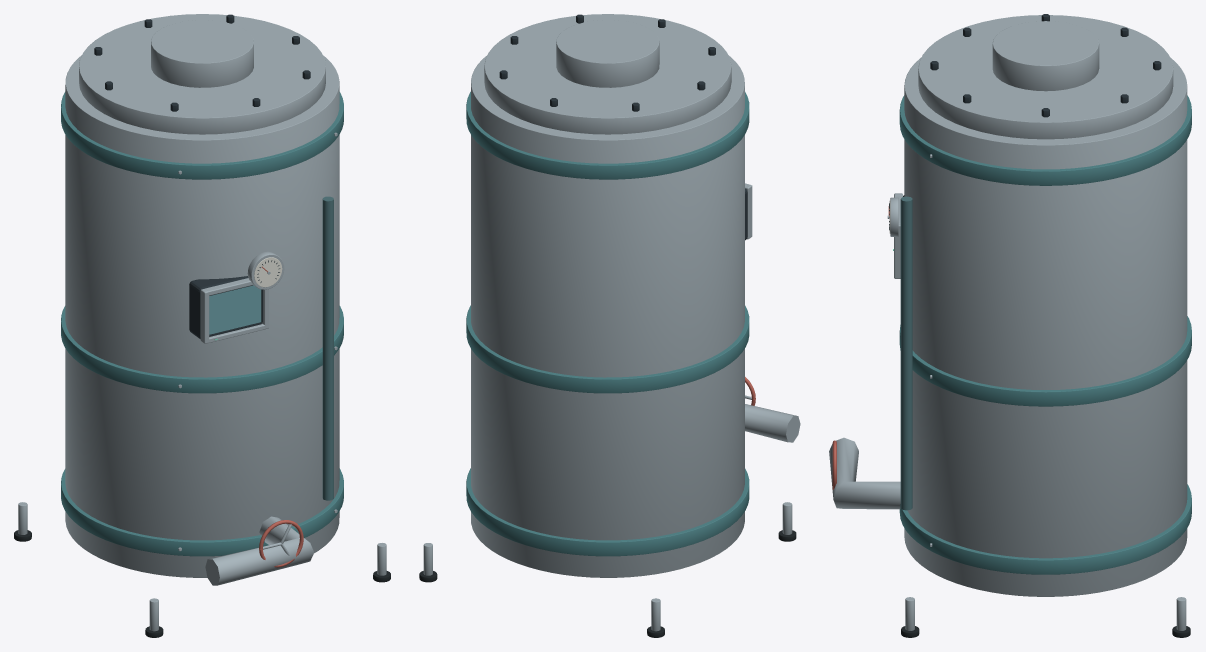
Rendered from SF_ExpansionVessel.fbx.
3 views of the same model, side by side, from view 1: azimuth 30°, elevation 25°; view 2: azimuth 150°, elevation 25°; view 3: azimuth 270°, elevation 25° (orthographic). The views are drawn at different scales.
Parts seen in each view (by area): view 1: SF_ExpansionVessel; view 2: SF_ExpansionVessel; view 3: SF_ExpansionVessel.
Part boxes in pixels (x1=…): SF_ExpansionVessel: x1=14, y1=14, x2=390, y2=637; SF_ExpansionVessel: x1=419, y1=14, x2=800, y2=637; SF_ExpansionVessel: x1=829, y1=14, x2=1191, y2=637.
Size of the model in its own units: 126 by 254 by 156.
